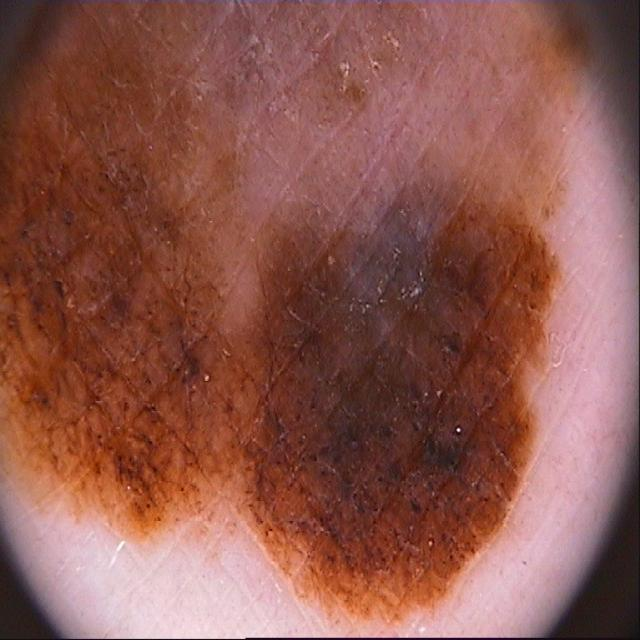Melanoma: (2, 2, 566, 617)
